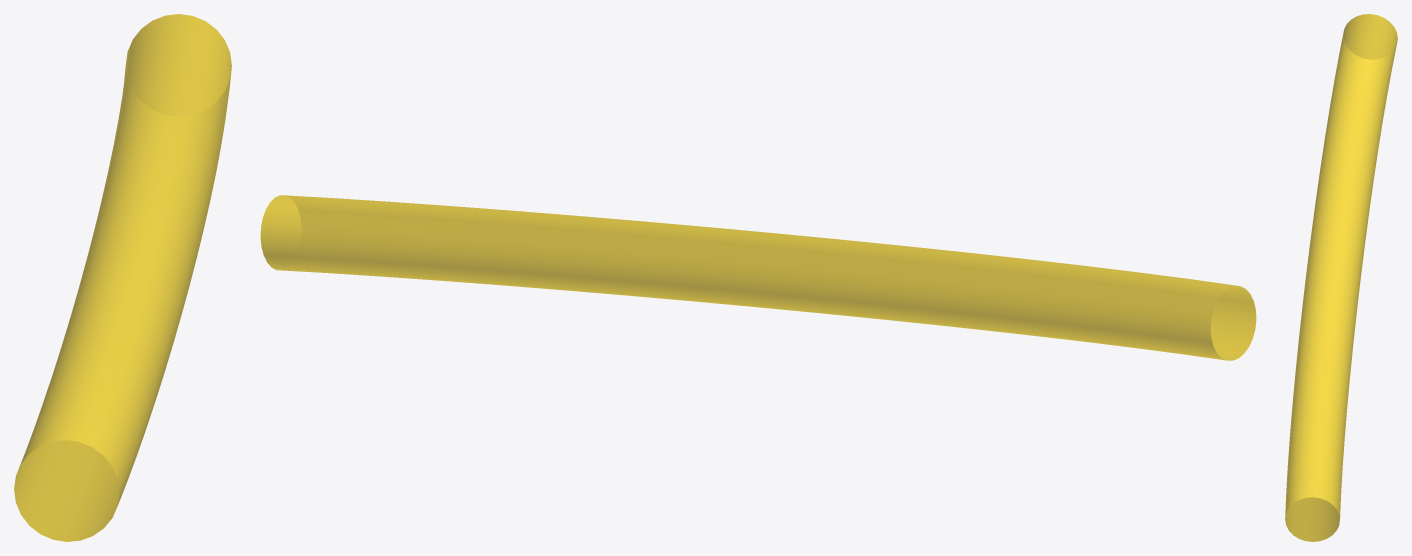
Rendered from Event_75125125_track_88.fbx.
3 views of the same model, side by side, from view 1: azimuth 90°, elevation 25°; view 2: azimuth 150°, elevation 25°; view 3: azimuth 270°, elevation 25° (orthographic). The views are drawn at different scales.
Parts seen in each view (by area): view 1: Model; view 2: Model; view 3: Model.
Boxes of the visible parts, left/top/right/bottom form: Model: left=14, top=14, right=231, bottom=541; Model: left=260, top=195, right=1256, bottom=360; Model: left=1285, top=14, right=1397, bottom=541.
Size of the model in its own units: 0.6126 by 0.1448 by 0.0821.
